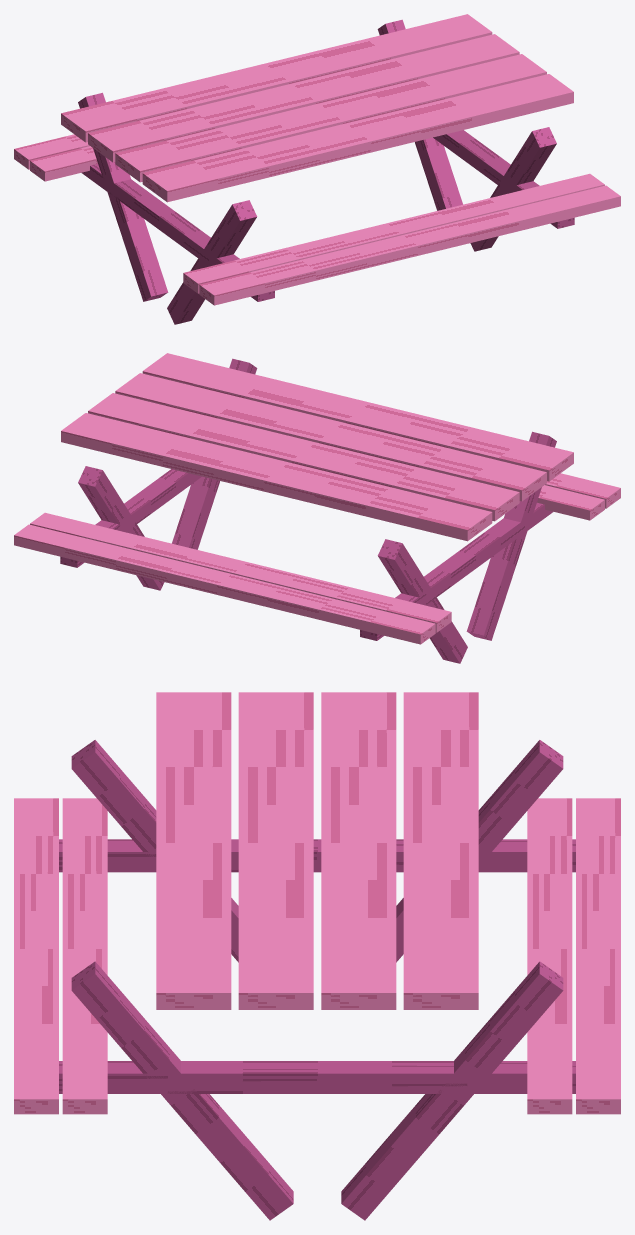
File: Picnic Table.fbx
3 renders of one model, top to bottom at view 1: azimuth 30°, elevation 25°; view 2: azimuth 150°, elevation 25°; view 3: azimuth 270°, elevation 25°, orthographic. The views are drawn at different scales.
Parts seen in each view (by area): view 1: Picnic Table top 0, Picnic Table top 2, Picnic Table top 1, Picnic Table top 3, Picnic Table seat -1 1, Picnic Table seat -1 0, Picnic Table leg -1 1, Picnic Table brace -1, Picnic Table leg -1 -1, Picnic Table leg 1 1, Picnic Table leg 1 -1, Picnic Table brace 1 (+2 smaller); view 2: Picnic Table top 3, Picnic Table top 1, Picnic Table top 2, Picnic Table top 0, Picnic Table seat 1 1, Picnic Table seat 1 0, Picnic Table leg -1 -1, Picnic Table brace -1, Picnic Table leg -1 1, Picnic Table leg 1 -1, Picnic Table leg 1 1, Picnic Table brace 1 (+2 smaller); view 3: Picnic Table top 0, Picnic Table top 1, Picnic Table top 2, Picnic Table top 3, Picnic Table seat -1 1, Picnic Table seat 1 1, Picnic Table brace 1, Picnic Table seat -1 0, Picnic Table seat 1 0, Picnic Table leg 1 -1, Picnic Table leg 1 1, Picnic Table leg -1 -1 (+2 smaller).
Part boxes in pixels (<box>): Picnic Table top 0: <box>142,74,573,202</box>; Picnic Table top 2: <box>88,34,519,162</box>; Picnic Table top 1: <box>115,54,546,182</box>; Picnic Table top 3: <box>61,14,492,142</box>; Picnic Table seat -1 1: <box>199,185,620,305</box>; Picnic Table seat -1 0: <box>183,173,604,293</box>; Picnic Table leg -1 1: <box>78,92,168,301</box>; Picnic Table brace -1: <box>81,163,274,301</box>; Picnic Table leg -1 -1: <box>167,200,257,324</box>; Picnic Table leg 1 1: <box>377,19,462,210</box>; Picnic Table leg 1 -1: <box>470,127,556,251</box>; Picnic Table brace 1: <box>433,130,574,228</box>; Picnic Table top 3: <box>61,413,492,541</box>; Picnic Table top 1: <box>115,373,546,501</box>; Picnic Table top 2: <box>88,393,519,521</box>; Picnic Table top 0: <box>142,353,573,481</box>; Picnic Table seat 1 1: <box>14,524,435,644</box>; Picnic Table seat 1 0: <box>30,512,451,632</box>; Picnic Table leg -1 -1: <box>466,431,556,640</box>; Picnic Table brace -1: <box>360,502,553,640</box>; Picnic Table leg -1 1: <box>377,539,467,663</box>; Picnic Table leg 1 -1: <box>172,358,257,549</box>; Picnic Table leg 1 1: <box>78,466,164,590</box>; Picnic Table brace 1: <box>60,469,201,567</box>; Picnic Table top 0: <box>156,692,231,1009</box>; Picnic Table top 1: <box>238,692,313,1009</box>; Picnic Table top 2: <box>321,692,396,1009</box>; Picnic Table top 3: <box>403,692,478,1009</box>; Picnic Table seat -1 1: <box>14,798,58,1114</box>; Picnic Table seat 1 1: <box>576,798,620,1114</box>; Picnic Table brace 1: <box>59,1061,575,1093</box>; Picnic Table seat -1 0: <box>62,798,107,1114</box>; Picnic Table seat 1 0: <box>527,798,572,1114</box>; Picnic Table leg 1 -1: <box>71,961,293,1220</box>; Picnic Table leg 1 1: <box>341,961,563,1220</box>; Picnic Table leg -1 -1: <box>71,740,238,962</box>.
Size of the model in its own units: 1.9 by 0.7685 by 1.62.
Materials: 2 (2 with a texture image).
